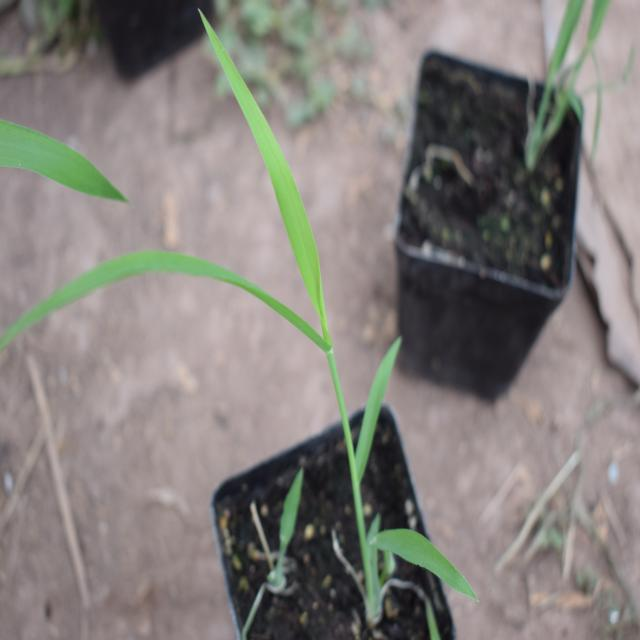crabgrass: (46, 73, 448, 586)
